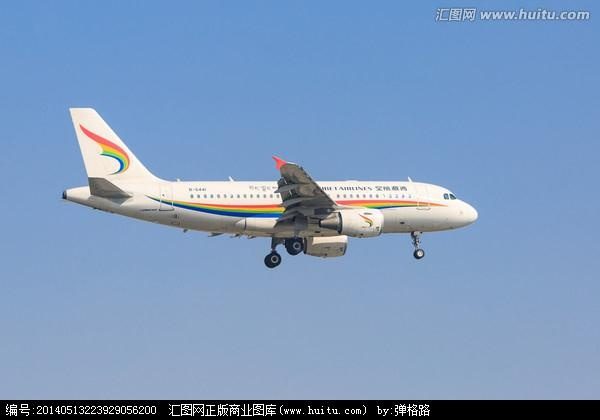airplane: (56, 102, 480, 267)
